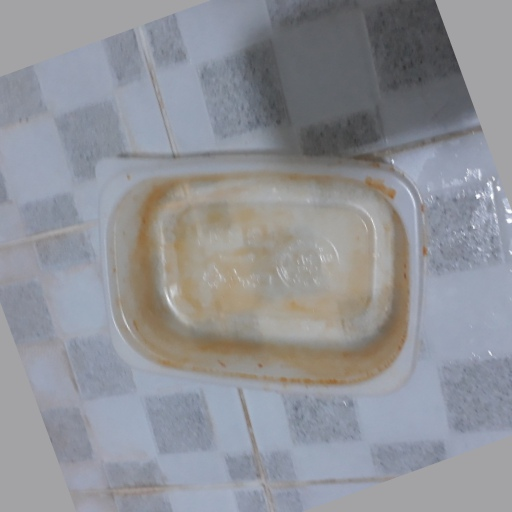Plastic_4: (94, 153, 426, 395)
